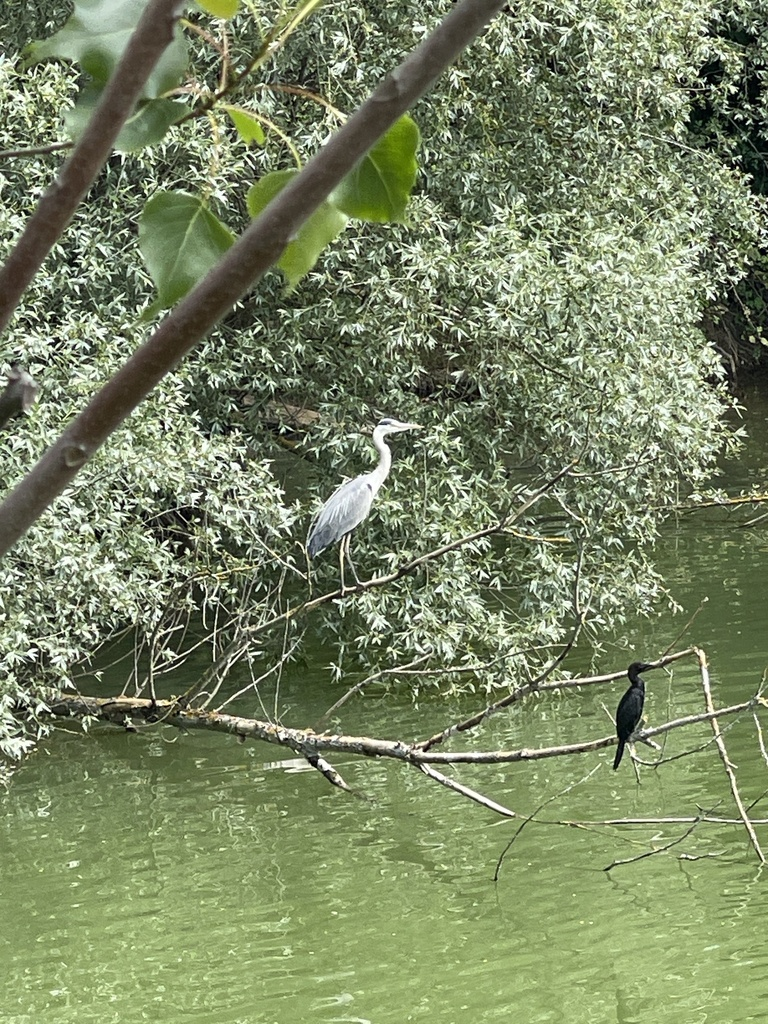heron: (304, 412, 424, 603)
